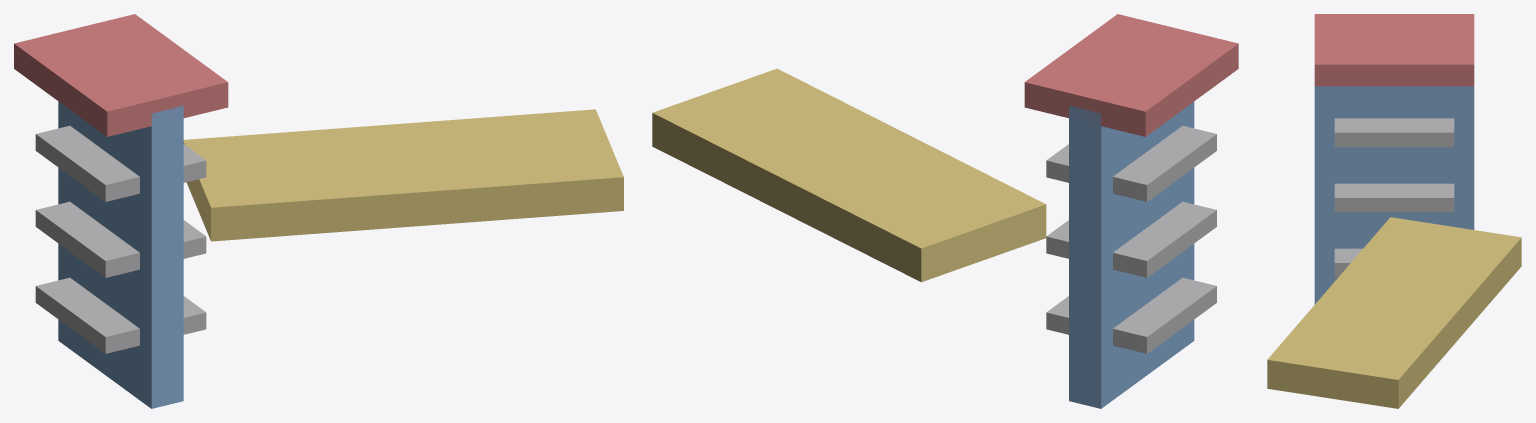
File: kid_escorrega.glb
3 views of the same model, side by side, from view 1: azimuth 30°, elevation 25°; view 2: azimuth 150°, elevation 25°; view 3: azimuth 270°, elevation 25° (orthographic). The views are drawn at different scales.
Visible parts, largest first — view 1: KID_ESCORREGA_v01; view 2: KID_ESCORREGA_v01; view 3: KID_ESCORREGA_v01.
Boxes of the visible parts, x1,y1,x2,y2 form: KID_ESCORREGA_v01: [14, 14, 623, 408]; KID_ESCORREGA_v01: [652, 14, 1238, 408]; KID_ESCORREGA_v01: [1267, 14, 1521, 408].
Bounding box in the file's own units: 1.33 × 0.73 × 0.6374.
